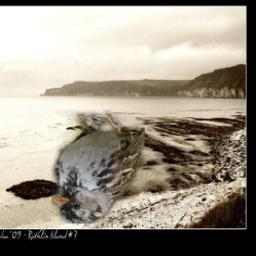Sparrow: (52, 110, 146, 224)
